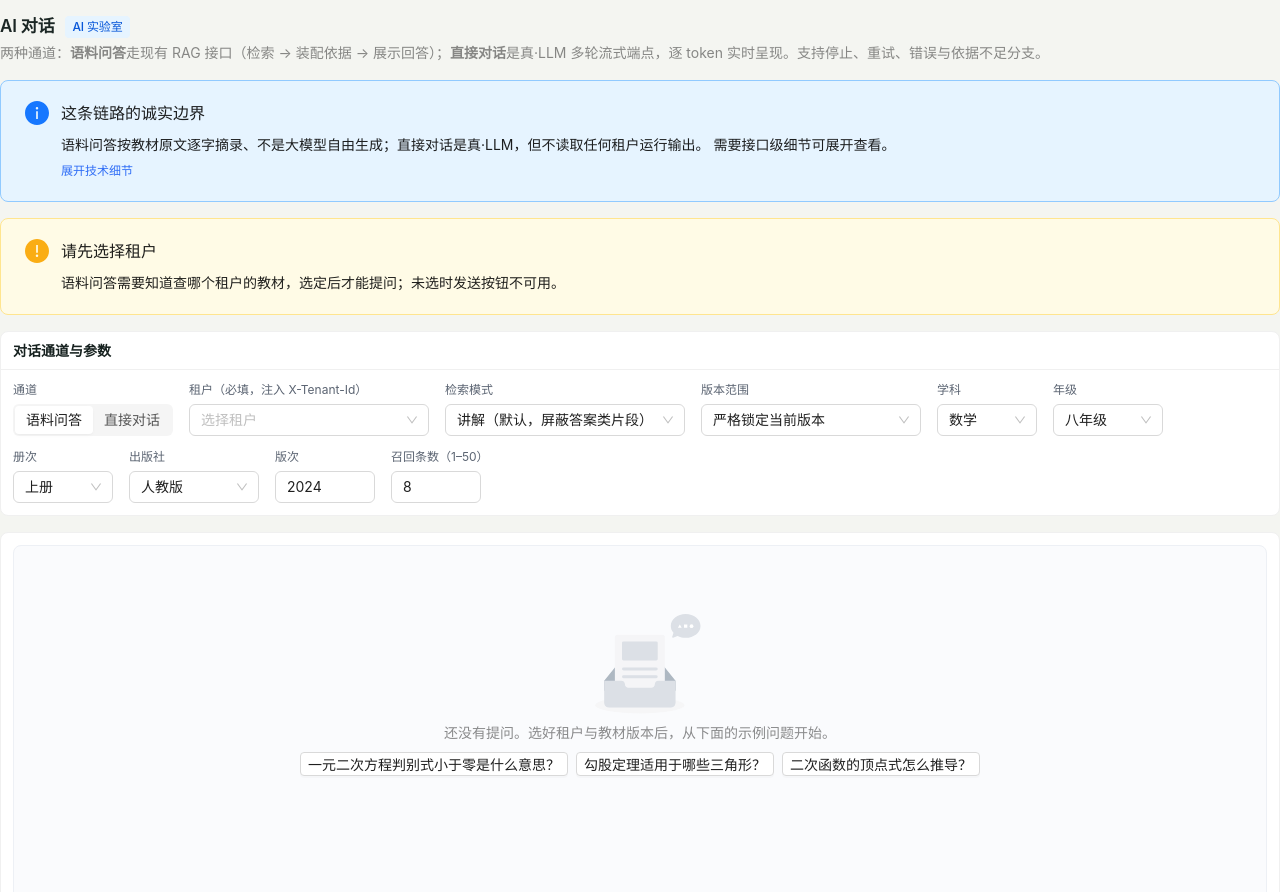
Test: AiChatPage · 直接对话通道 › ✅ 切到「直接对话」后无需租户即可发送，走 /api/chat/stream 真·LLM 流
Check: the element with test id "ai-chat-tenant" is shown, box [189,381,429,436]
Click the text titled "直接对话" in the row of "讲解（默认，屏蔽答案类片段）": (132, 420) [104,411,160,428]
(page scrolled)
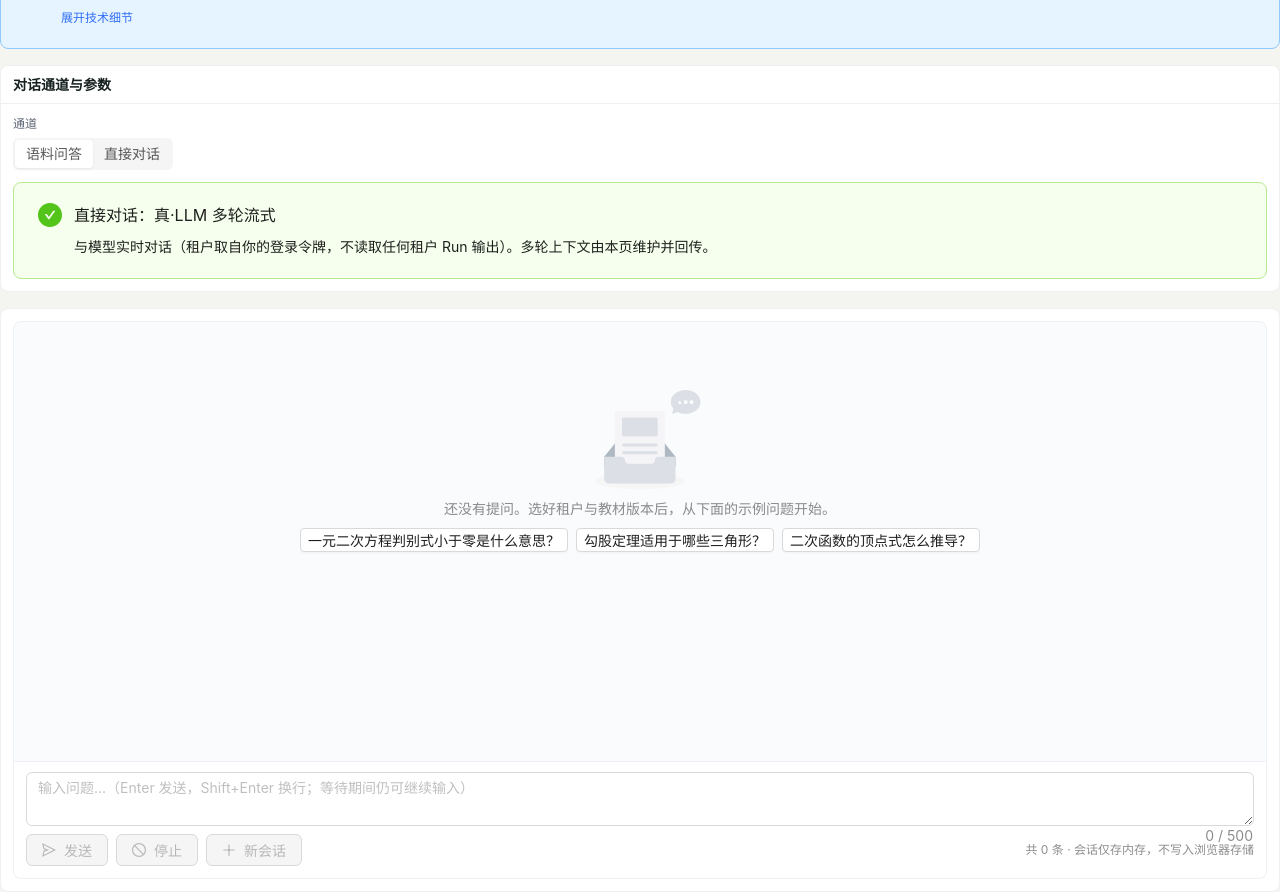
Check: the element with test id "ai-chat-tenant" is gone
In the text box with placeholder "输入问题…（Enter 发送，Shift+Enter 换行；等待期间仍可继续输入）": (640, 799) [27,773,1253,825], type "你好"
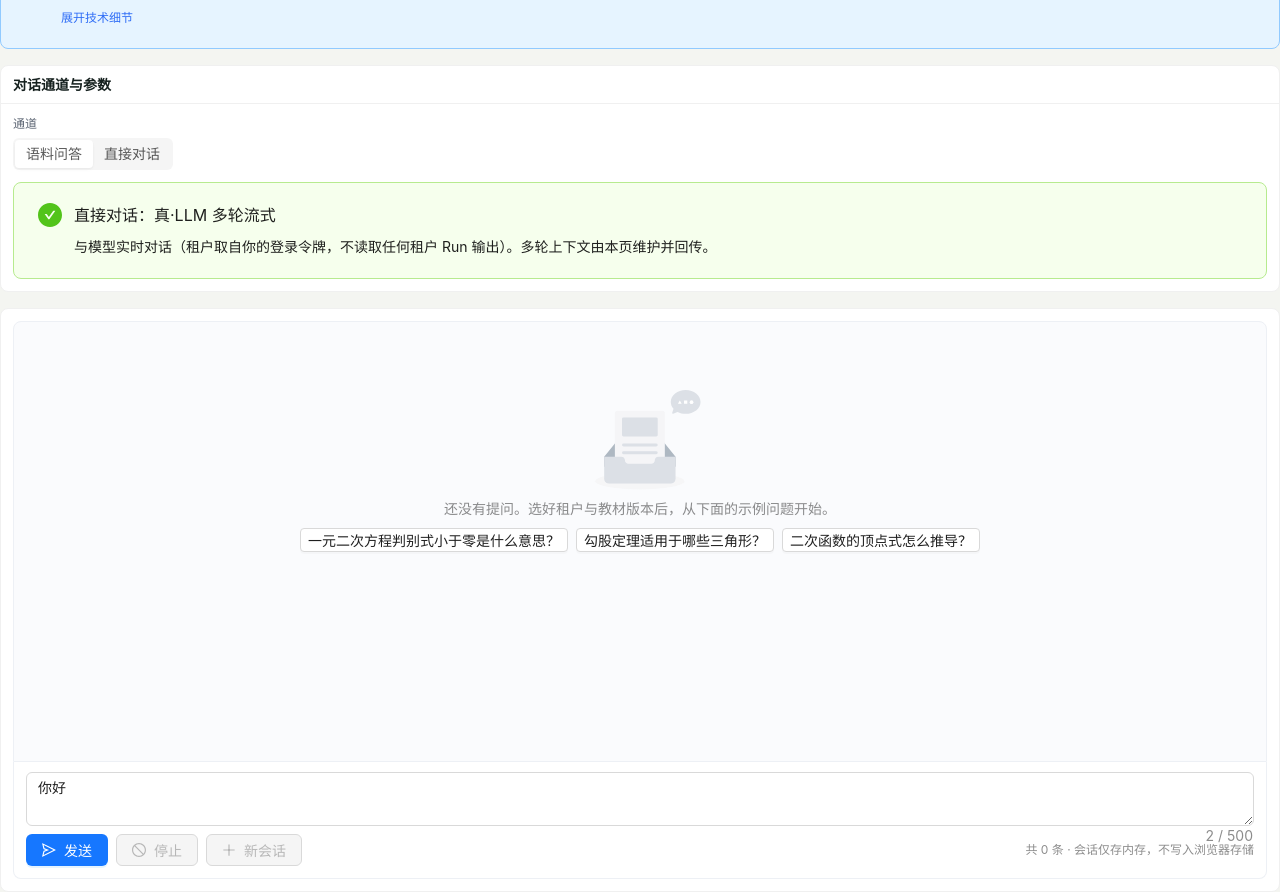
Check: the button "发送" is enabled
Click the button "发送": (67, 850) [26,834,108,866]
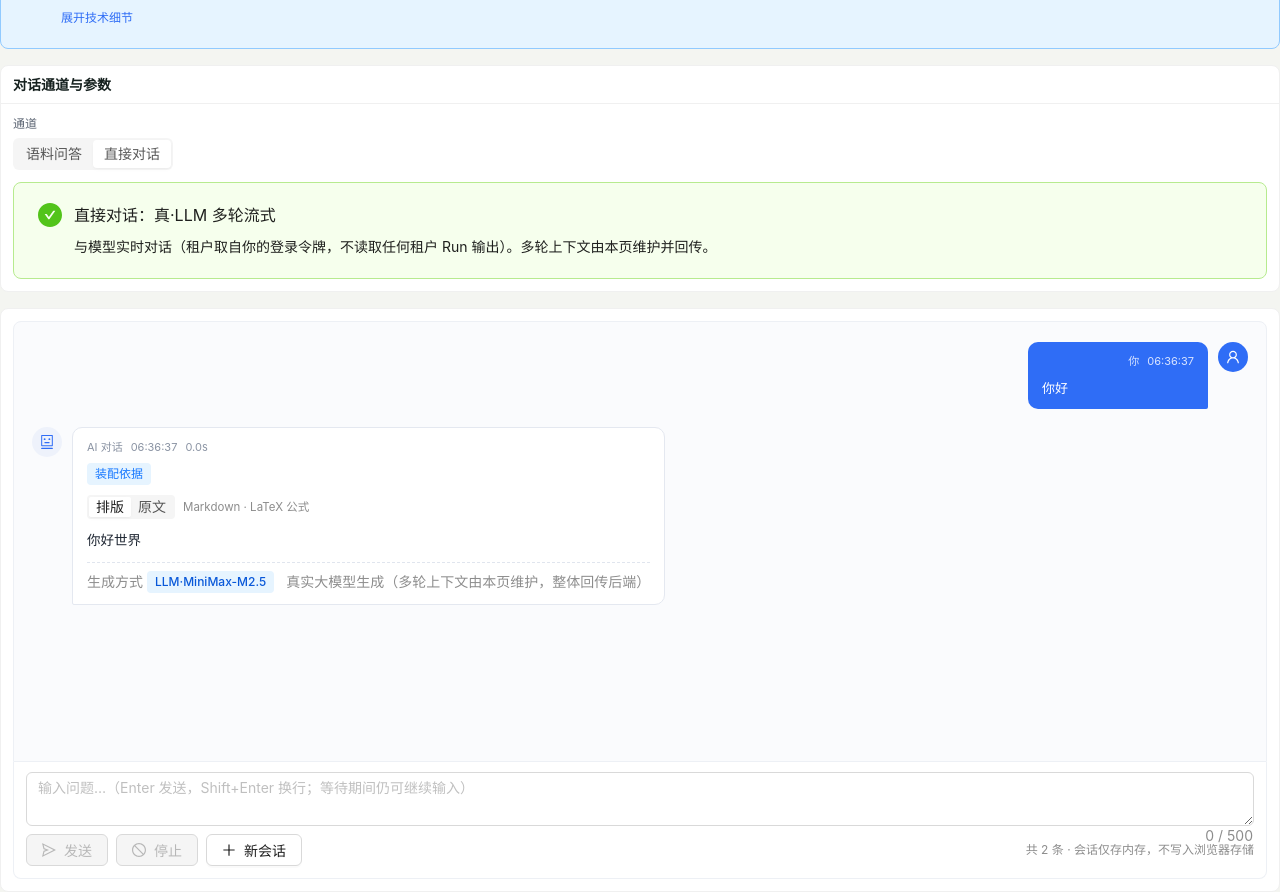
Check: the text "你好世界" is shown, box [87,532,141,548]
Check: the text "真实大模型生成（多轮上下文由本页维护，整体回传后端）" is shown, box [286,573,650,590]
